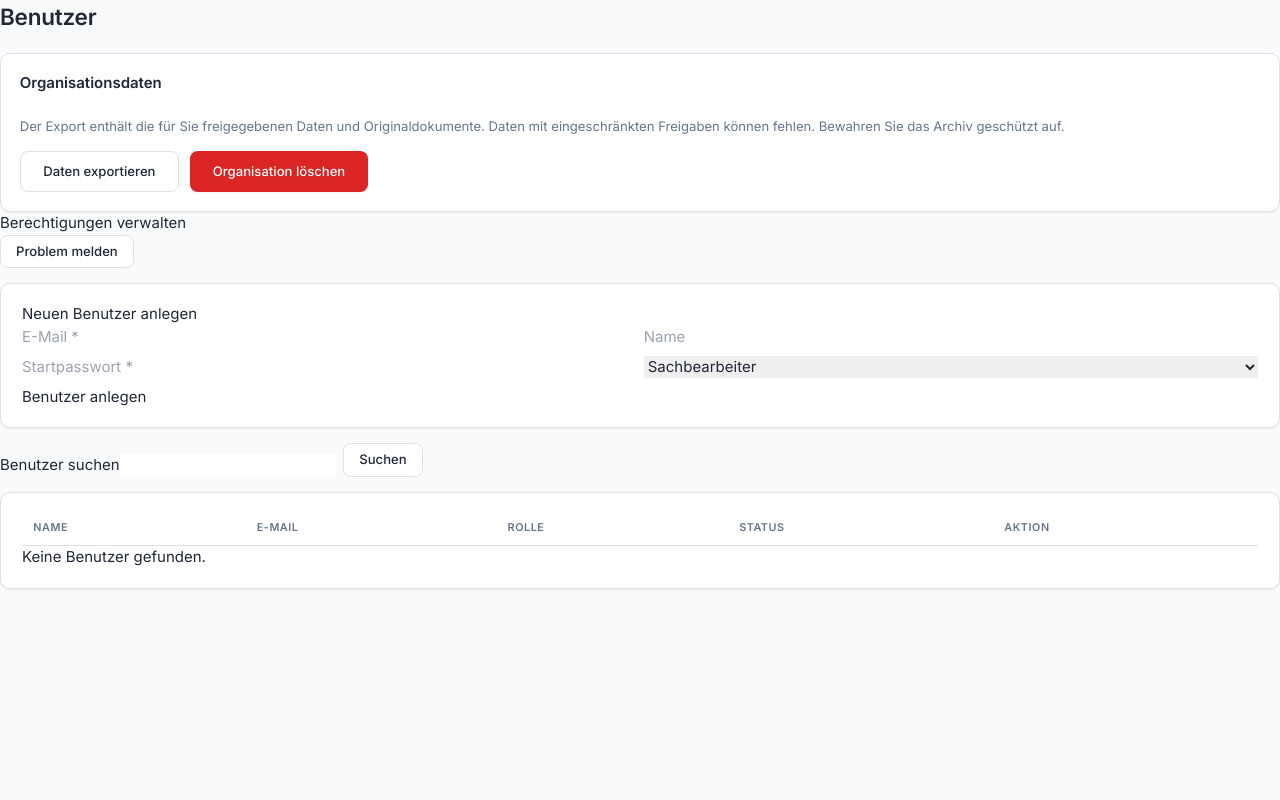
Scenario: manual problem reports › prevents duplicate requests and drops completion after the dialog is dismissed
Click the button "Problem melden" at x=67, y=251, box [0, 234, 134, 268]
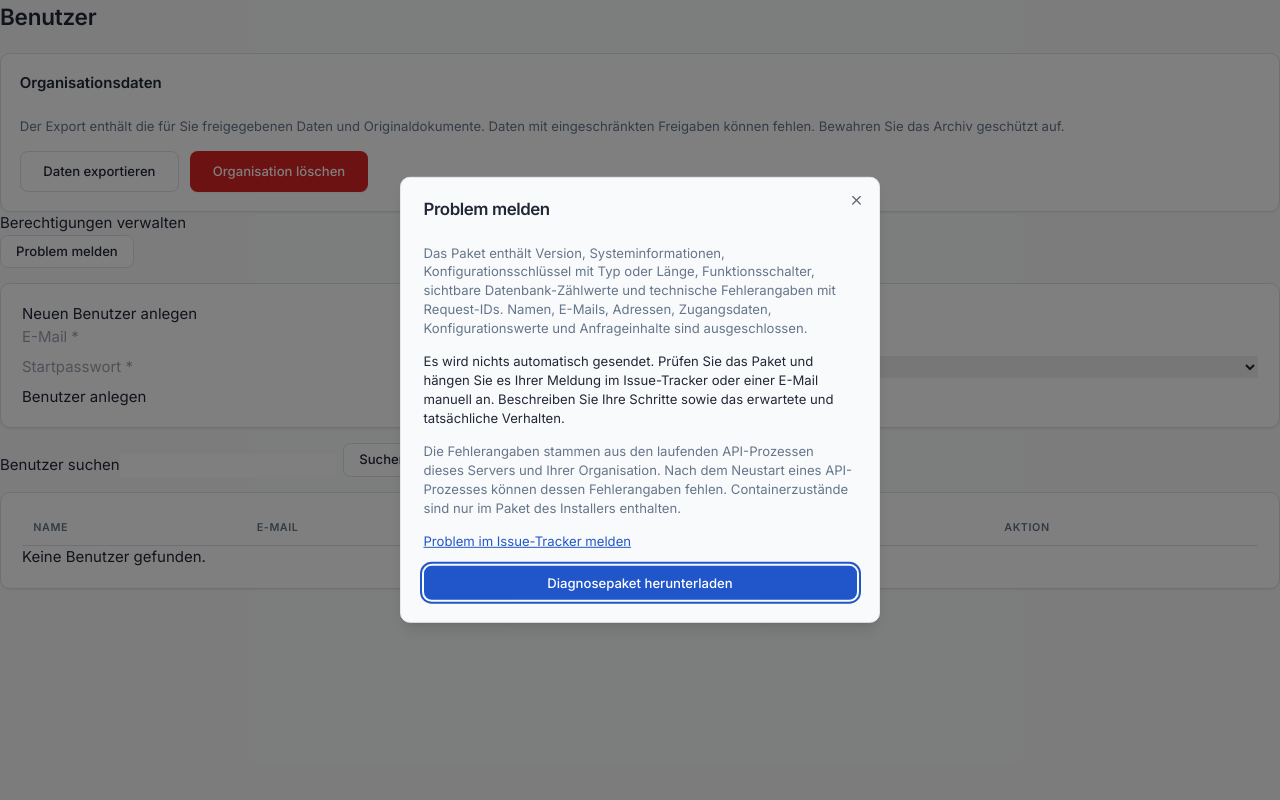
Click the button "Diagnosepaket herunterladen" at x=640, y=583, box [424, 566, 856, 600]
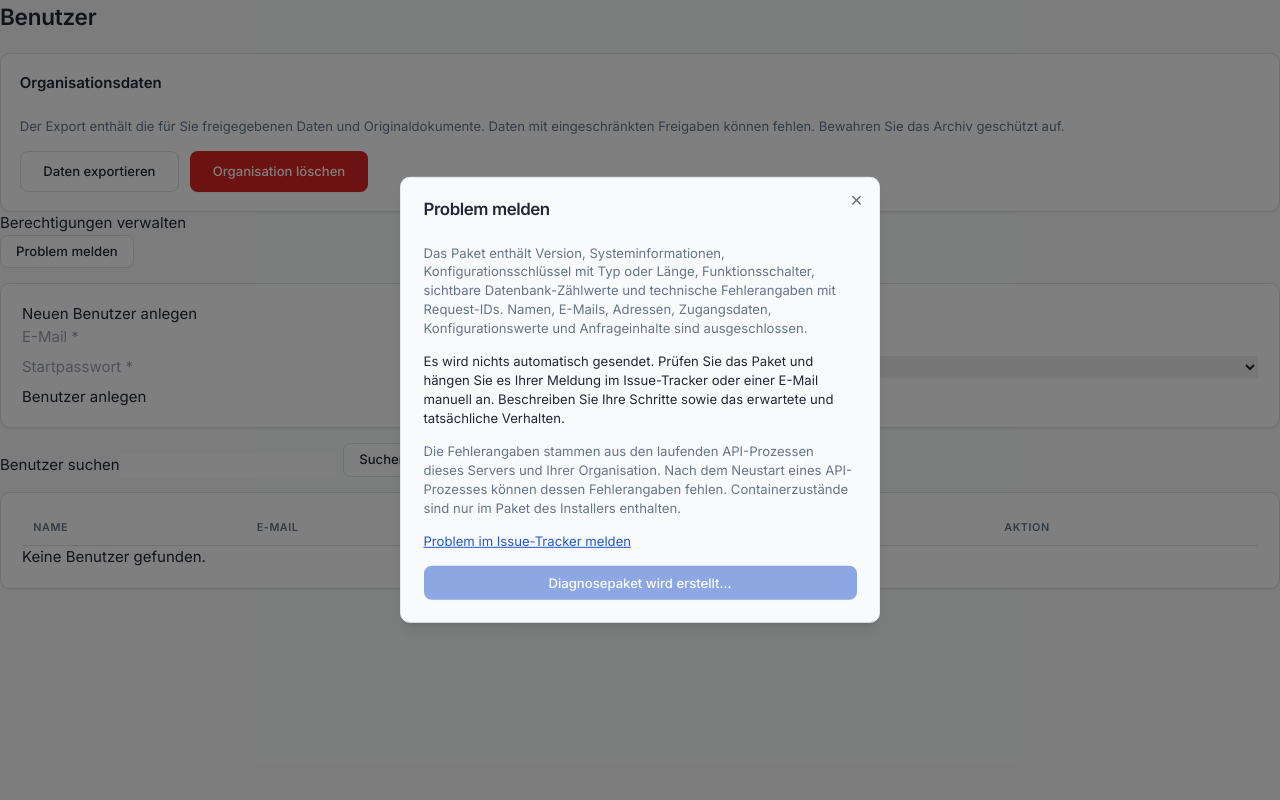
Check: the button "Diagnosepaket wird erstellt…" is disabled, box [424, 566, 856, 600]
Press Escape
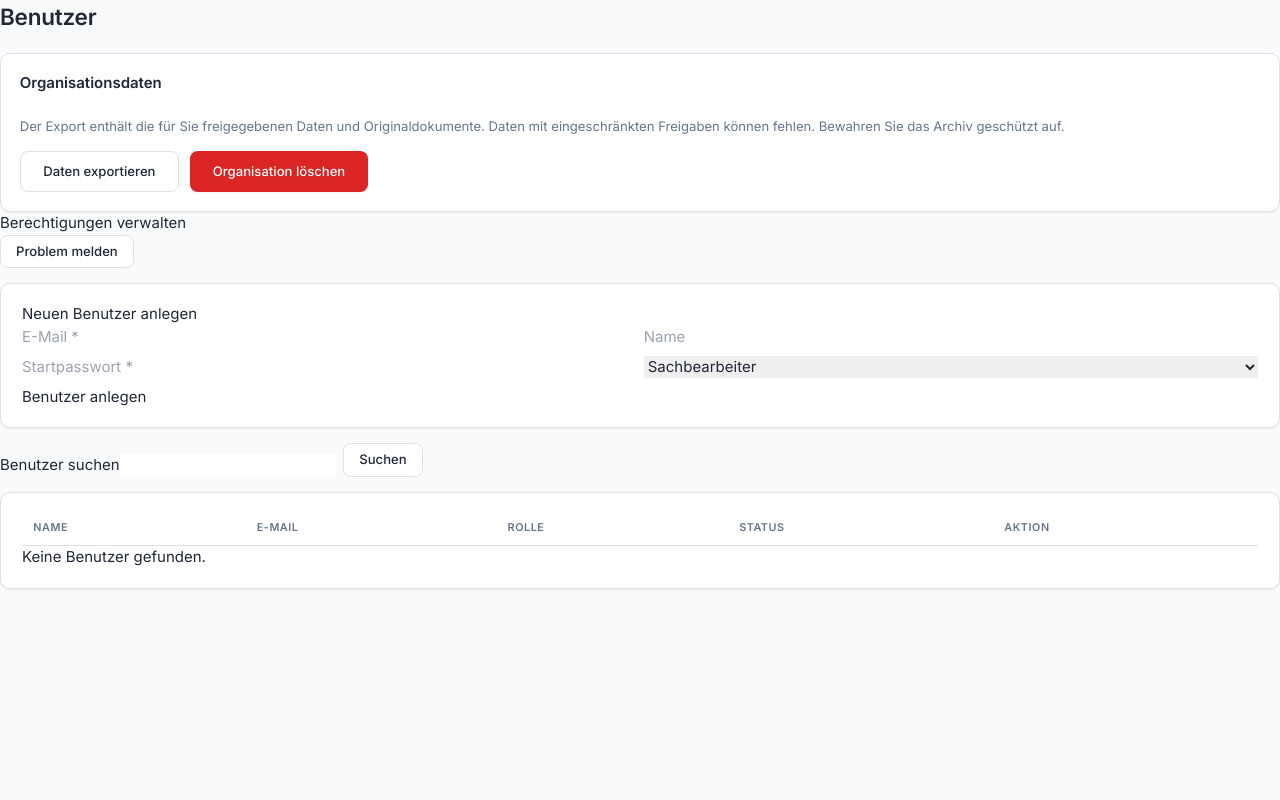
Check: the dialog is gone
